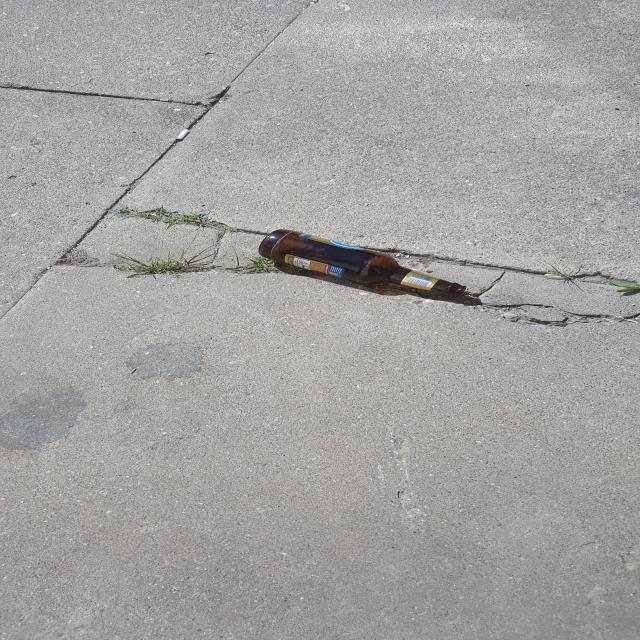Cigarette: (176, 129, 190, 141)
Glass bottle: (258, 229, 467, 297)
